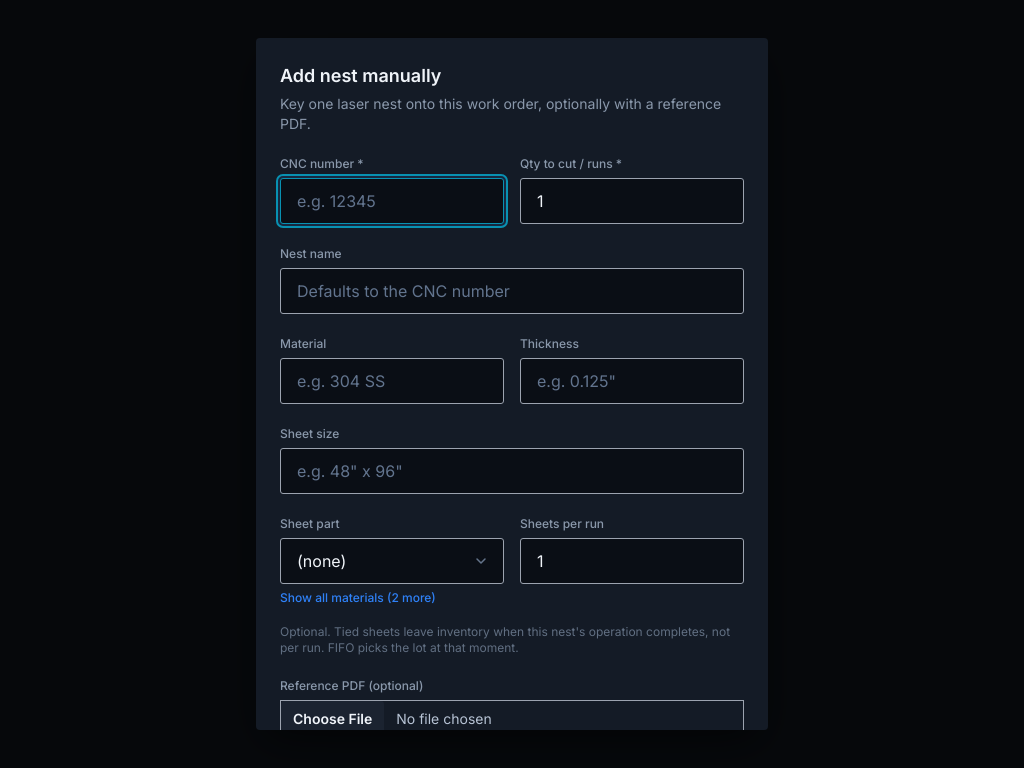
Test case: sheet-part list: raw stock by default › reveals exactly what the count advertises
Expected: the dropdown labelled "Sheet part" is shown, [280,538,504,584]
Click the button "Show all materials (2 more)". click: (358, 598)
box: [280,590,436,606]
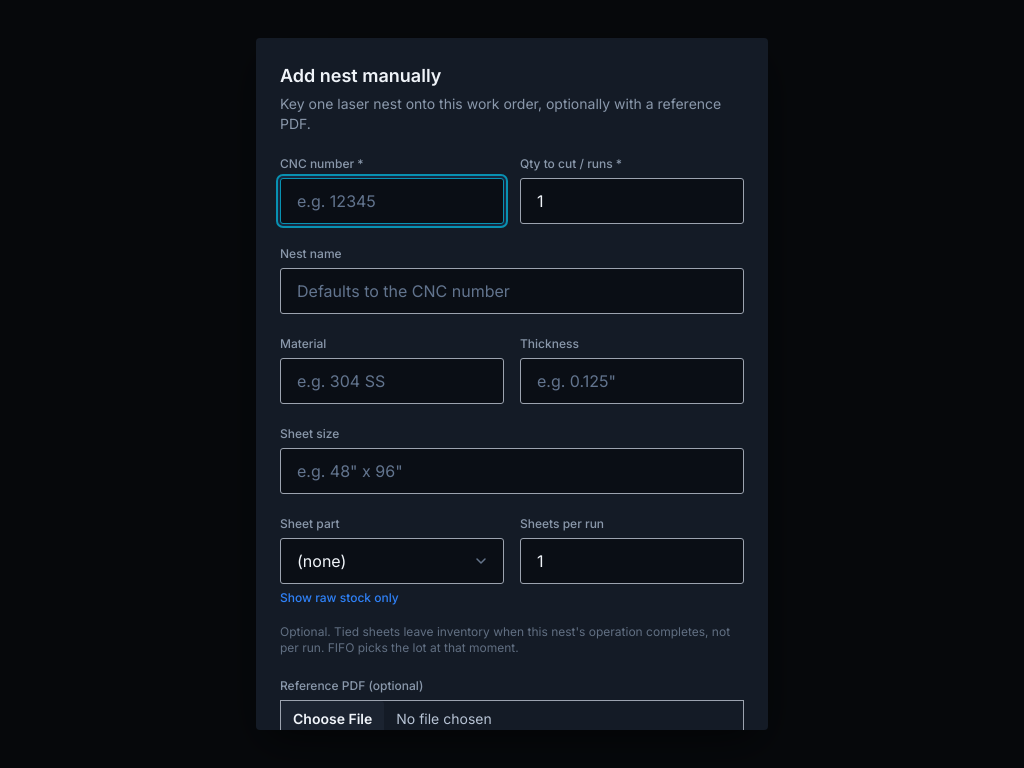
Expected: the button "Show raw stock only" is shown, [280,590,399,606]
